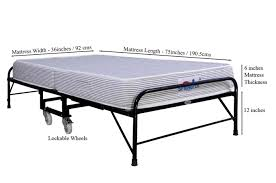bed-matress: (11, 52, 235, 114)
